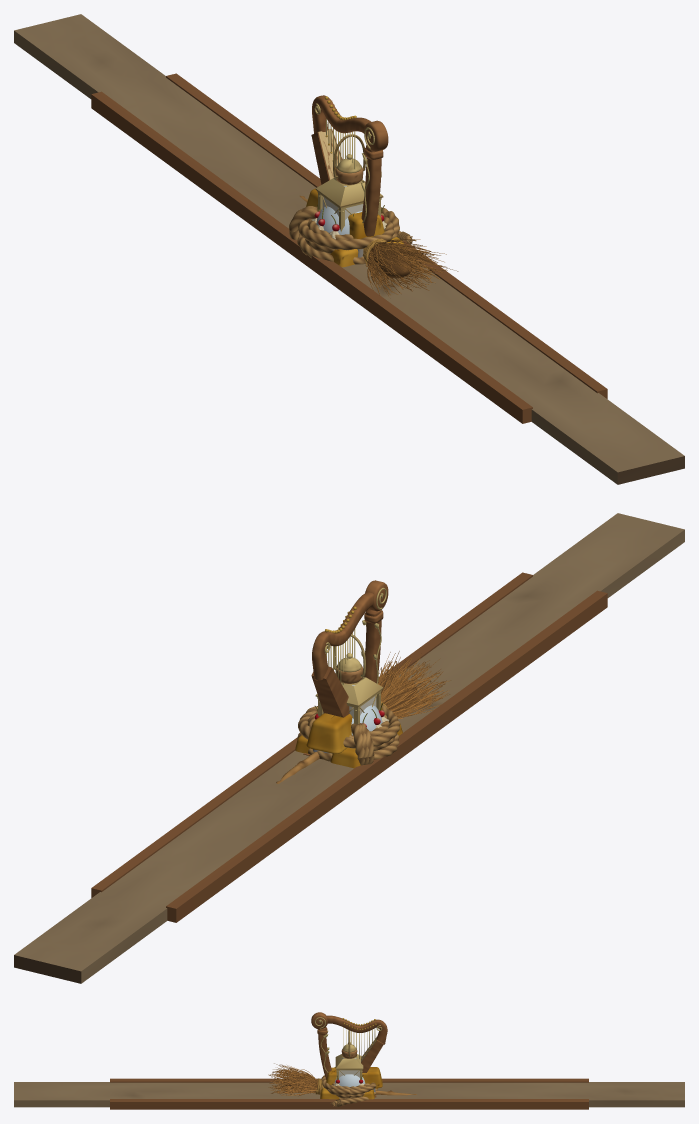
The model's file is items.glb.
The picture shows the model from 3 angles, top to bottom: view 1: azimuth 30°, elevation 25°; view 2: azimuth 150°, elevation 25°; view 3: azimuth 270°, elevation 25°; orthographic projection. The views are drawn at different scales.
Visible parts, largest first — view 1: plank, ladder, harp, broom, rope, lamp, gold; view 2: plank, ladder, harp, broom, rope, gold, lamp; view 3: plank, ladder, harp, broom, rope, gold, lamp, water-glass.
Part boxes in pixels (left/top/right/bottom): plank: left=14, top=14, right=684, bottom=484; ladder: left=91, top=73, right=607, bottom=423; harp: left=311, top=95, right=388, bottom=236; broom: left=299, top=195, right=458, bottom=297; rope: left=289, top=206, right=416, bottom=264; lamp: left=315, top=134, right=383, bottom=231; gold: left=306, top=188, right=404, bottom=267; plank: left=14, top=513, right=684, bottom=983; ladder: left=91, top=572, right=607, bottom=922; harp: left=303, top=580, right=388, bottom=755; broom: left=276, top=651, right=450, bottom=783; rope: left=297, top=705, right=400, bottom=765; gold: left=295, top=704, right=402, bottom=768; lamp: left=315, top=634, right=383, bottom=724; plank: left=14, top=1082, right=684, bottom=1107; ladder: left=110, top=1078, right=588, bottom=1109; harp: left=311, top=1012, right=387, bottom=1097; broom: left=268, top=1063, right=416, bottom=1096; rope: left=321, top=1075, right=377, bottom=1106; gold: left=320, top=1067, right=382, bottom=1099; lamp: left=335, top=1030, right=363, bottom=1079; water-glass: left=334, top=1058, right=365, bottom=1087.
Bounding box in the file's own units: 0.6541 × 0.9847 × 7.
